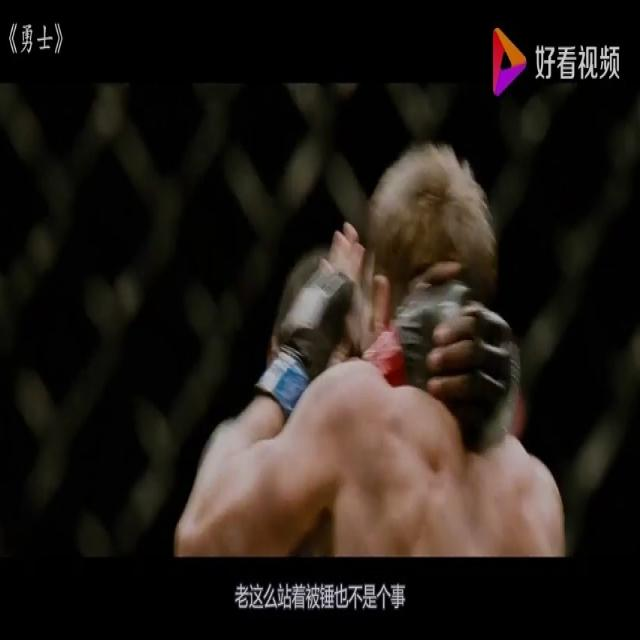fight: (174, 137, 566, 557)
